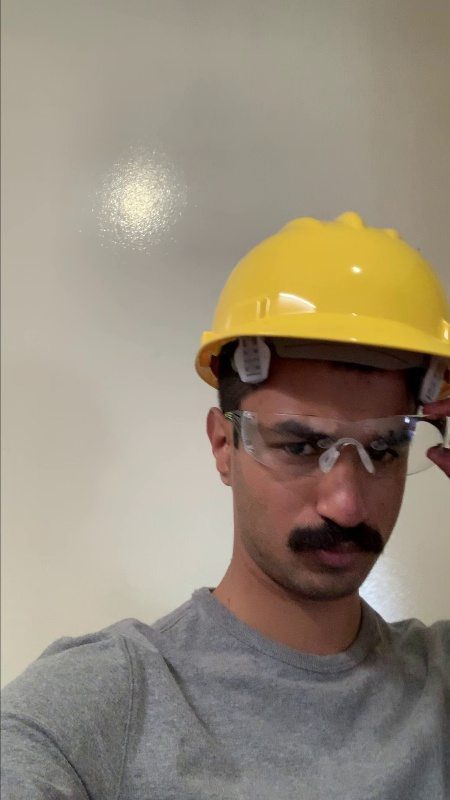glasses: (234, 404, 433, 485)
helmet: (186, 211, 444, 371)
